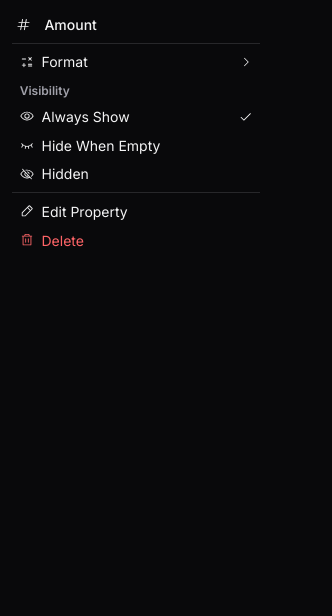
it: PropertyMenu › the name saves on blur and number properties offer Format
Later steps or results of the test are not shown.
Replace the text in the field named "Property name" with "Budget". click: (150, 24)
box: [41,12,260,37]
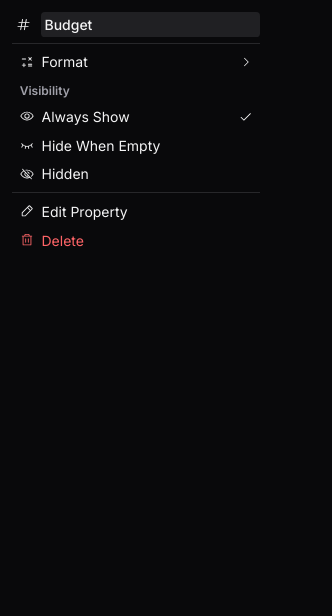
Press Tab
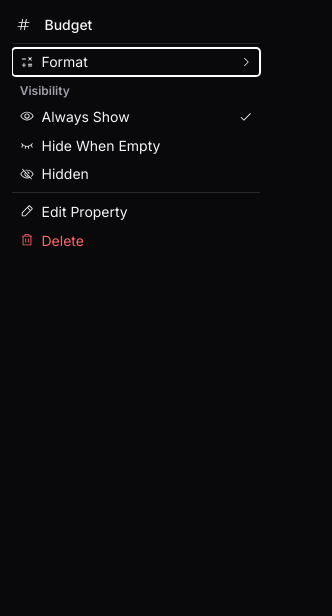
Click the button "Format". click: (136, 62)
box: [12,48,260,76]
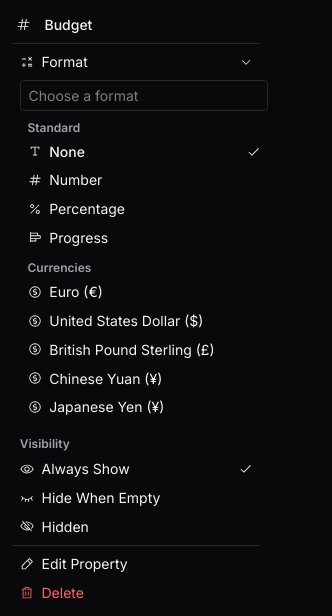
Expected: the field with placeholder "Choose a format" is shown, [20,80,268,111]
Expected: the text "Standard" is shown, [28,120,80,135]
Expected: the text "Currencies" is shown, [28,260,91,275]
